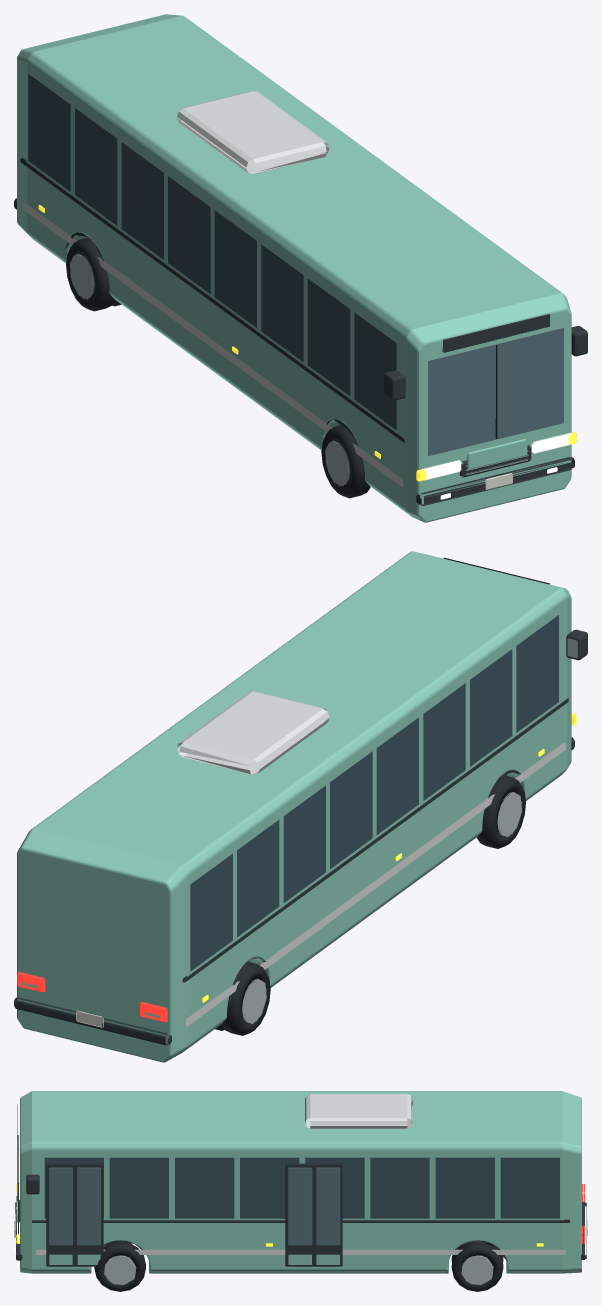
The model's file is bus.glb.
3 views of the same model, one above another, from view 1: azimuth 30°, elevation 25°; view 2: azimuth 150°, elevation 25°; view 3: azimuth 270°, elevation 25° (orthographic). The views are drawn at different scales.
Parts seen in each view (by area): view 1: ShapeSafe_BodyMesh_Paint_BusMint, ShapeSafe_BodyMesh_Glass_StylizedOpaque, ShapeSafe_BodyMesh_Glass_Reflection, BodyMesh_Paint_VanWhite, BodyMesh_Trim_Graphite, Wheel_RR.007_Mesh_Rubber_Tires, Wheel_FR.007_Mesh_Rubber_Tires, BodyMesh_Paint_BusMint, ShapeSafe_BodyMesh_Trim_Graphite, Wheel_FR.007_Mesh_Metal_SatinAluminum, Wheel_RR.007_Mesh_Metal_SatinAluminum; view 2: ShapeSafe_BodyMesh_Paint_BusMint, ShapeSafe_BodyMesh_Glass_StylizedOpaque, BodyMesh_Paint_VanWhite, BodyMesh_Trim_Graphite, Wheel_RR.007_Mesh_Rubber_Tires, Wheel_FR.007_Mesh_Rubber_Tires, Wheel_RR.007_Mesh_Metal_SatinAluminum, Wheel_FR.007_Mesh_Metal_SatinAluminum; view 3: ShapeSafe_BodyMesh_Paint_BusMint, ShapeSafe_BodyMesh_Glass_StylizedOpaque, ShapeSafe_BodyMesh_Glass_Reflection, BodyMesh_Paint_VanWhite, BodyMesh_Trim_Graphite, Wheel_RL.007_Mesh_Rubber_Tires, Wheel_FL.007_Mesh_Rubber_Tires, BodyMesh_Paint_BusMint, Wheel_FL.007_Mesh_Metal_SatinAluminum, Wheel_RL.007_Mesh_Metal_SatinAluminum, ShapeSafe_BodyMesh_Trim_Graphite.
Part boxes in pixels (x1,y1,x2,y2): ShapeSafe_BodyMesh_Paint_BusMint: (17,14,571,522); ShapeSafe_BodyMesh_Glass_StylizedOpaque: (28,74,396,429); ShapeSafe_BodyMesh_Glass_Reflection: (428,328,563,456); BodyMesh_Paint_VanWhite: (23,91,403,486); BodyMesh_Trim_Graphite: (14,158,574,505); Wheel_RR.007_Mesh_Rubber_Tires: (66,237,121,311); Wheel_FR.007_Mesh_Rubber_Tires: (321,425,370,498); BodyMesh_Paint_BusMint: (467,438,527,469); ShapeSafe_BodyMesh_Trim_Graphite: (384,326,587,400); Wheel_FR.007_Mesh_Metal_SatinAluminum: (325,440,349,486); Wheel_RR.007_Mesh_Metal_SatinAluminum: (70,253,94,299); ShapeSafe_BodyMesh_Paint_BusMint: (17,551,571,1062); ShapeSafe_BodyMesh_Glass_StylizedOpaque: (190,615,558,971); BodyMesh_Paint_VanWhite: (177,691,565,1026); BodyMesh_Trim_Graphite: (14,557,574,1045); Wheel_RR.007_Mesh_Rubber_Tires: (215,962,270,1035); Wheel_FR.007_Mesh_Rubber_Tires: (476,775,525,848); Wheel_RR.007_Mesh_Metal_SatinAluminum: (242,979,266,1023); Wheel_FR.007_Mesh_Metal_SatinAluminum: (497,792,521,836); ShapeSafe_BodyMesh_Paint_BusMint: (20,1091,581,1273); ShapeSafe_BodyMesh_Glass_StylizedOpaque: (44,1157,559,1218); ShapeSafe_BodyMesh_Glass_Reflection: (49,1167,340,1245); BodyMesh_Paint_VanWhite: (36,1094,565,1254); BodyMesh_Trim_Graphite: (15,1104,586,1266); Wheel_RL.007_Mesh_Rubber_Tires: (451,1242,503,1291); Wheel_FL.007_Mesh_Rubber_Tires: (94,1242,145,1291); BodyMesh_Paint_BusMint: (16,1196,339,1264); Wheel_FL.007_Mesh_Metal_SatinAluminum: (104,1255,136,1284); Wheel_RL.007_Mesh_Metal_SatinAluminum: (461,1255,493,1284); ShapeSafe_BodyMesh_Trim_Graphite: (26,1174,39,1194).
Size of the model in its own units: 3.02 by 3.32 by 10.92.
